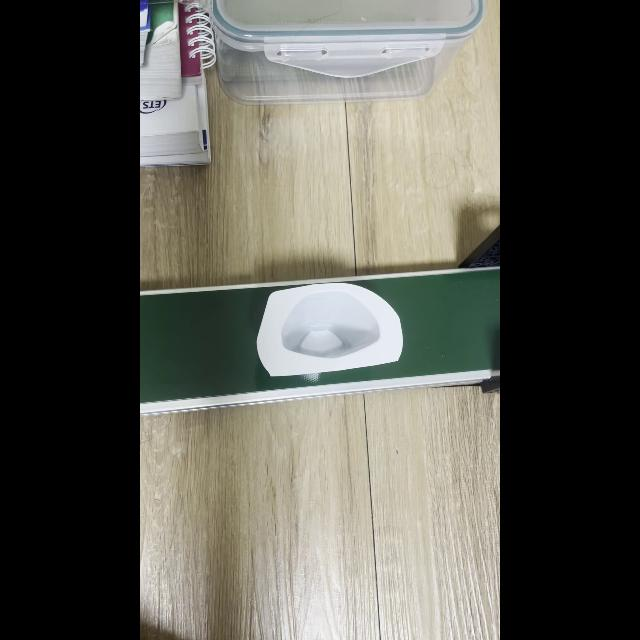clean: (263, 286, 392, 368)
